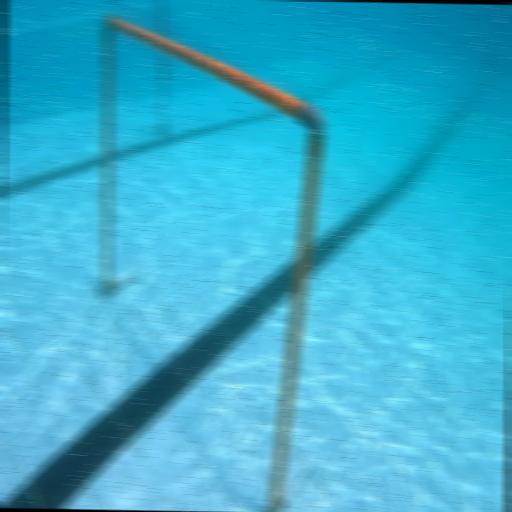gate: (93, 13, 328, 512)
